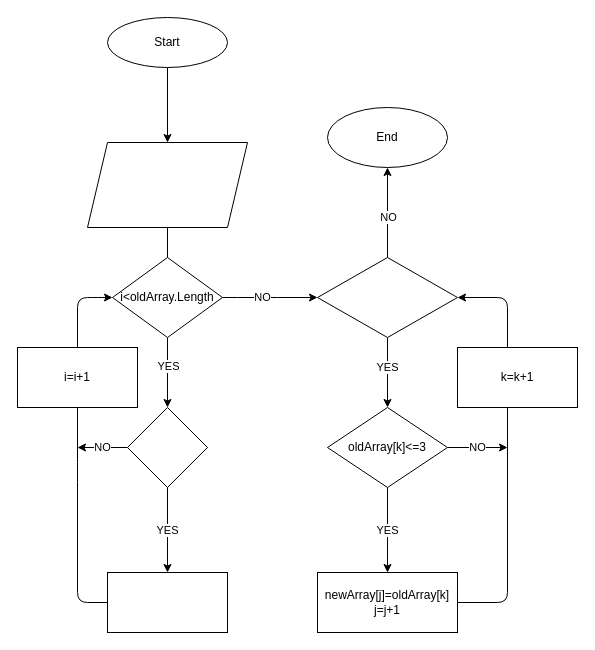
Image size: 595x650. Some labels were removed from this diagram. The box of each missing label's shape, as (x1, y1, x2, y2) in pixels:
count=count+1: (106, 572, 228, 632)
k<oldArray.Length: (316, 256, 458, 338)
oldArray = [] newArray=[count] i=0 count=0 k=0 j=0: (86, 142, 248, 228)
oldArray[i]<=3: (126, 406, 208, 488)
